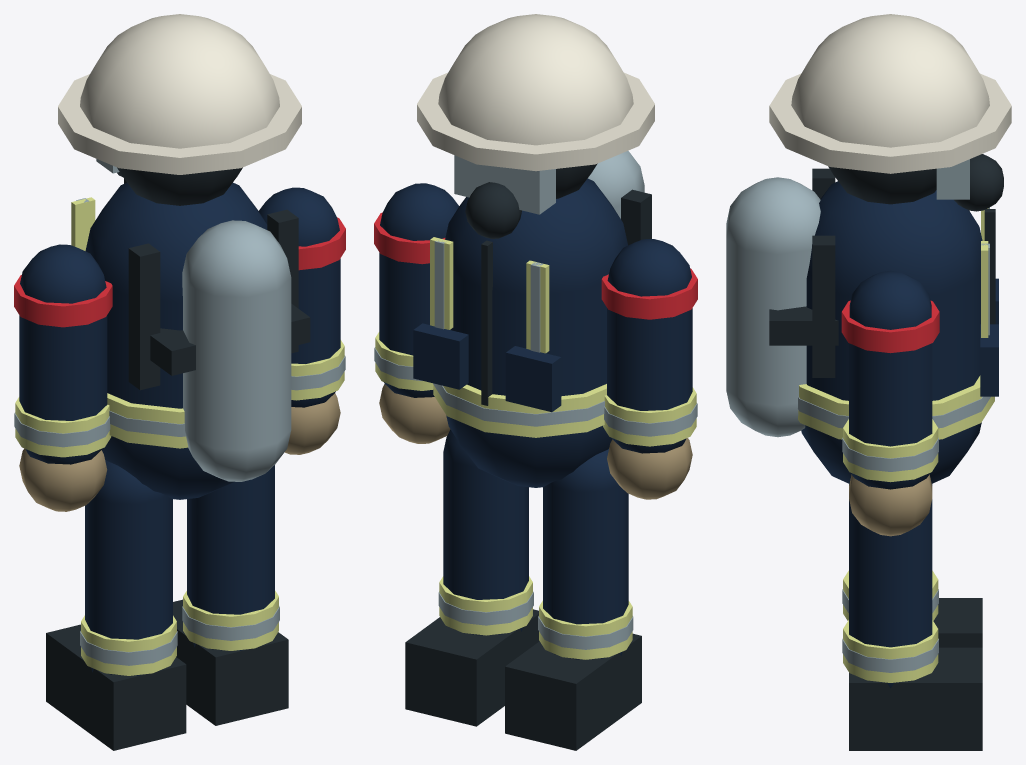
Rendered from geo-squad.glb.
3 views of the same model, side by side, from view 1: azimuth 30°, elevation 25°; view 2: azimuth 150°, elevation 25°; view 3: azimuth 270°, elevation 25° (orthographic). The views are drawn at different scales.
Bounding box in the file's own units: 0.874 × 1.81 × 0.6836.
